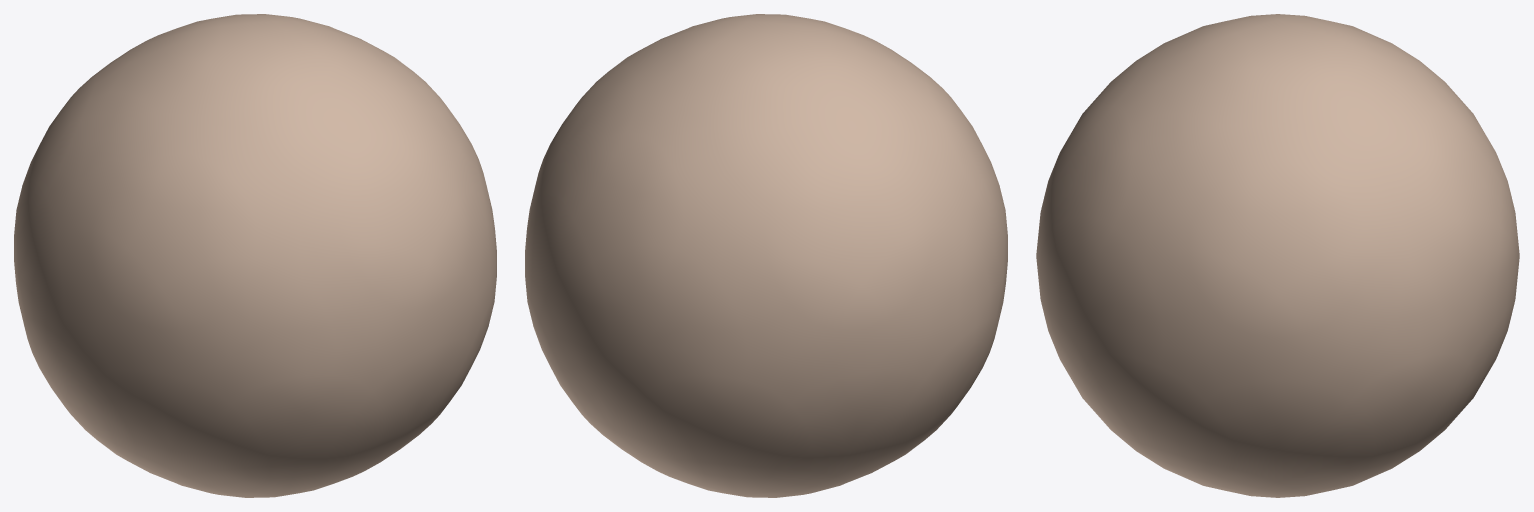
The model's file is Ball.fbx.
3 renders of one model, left to right at view 1: azimuth 30°, elevation 25°; view 2: azimuth 150°, elevation 25°; view 3: azimuth 270°, elevation 25°, orthographic.
Visible parts, largest first — view 1: Ball; view 2: Ball; view 3: Ball.
Part boxes in pixels (left/top/right/bottom): Ball: left=14, top=14, right=496, bottom=497; Ball: left=525, top=14, right=1007, bottom=497; Ball: left=1036, top=14, right=1519, bottom=497.
Bounding box in the file's own units: 0.9237 × 0.9303 × 0.9249.
